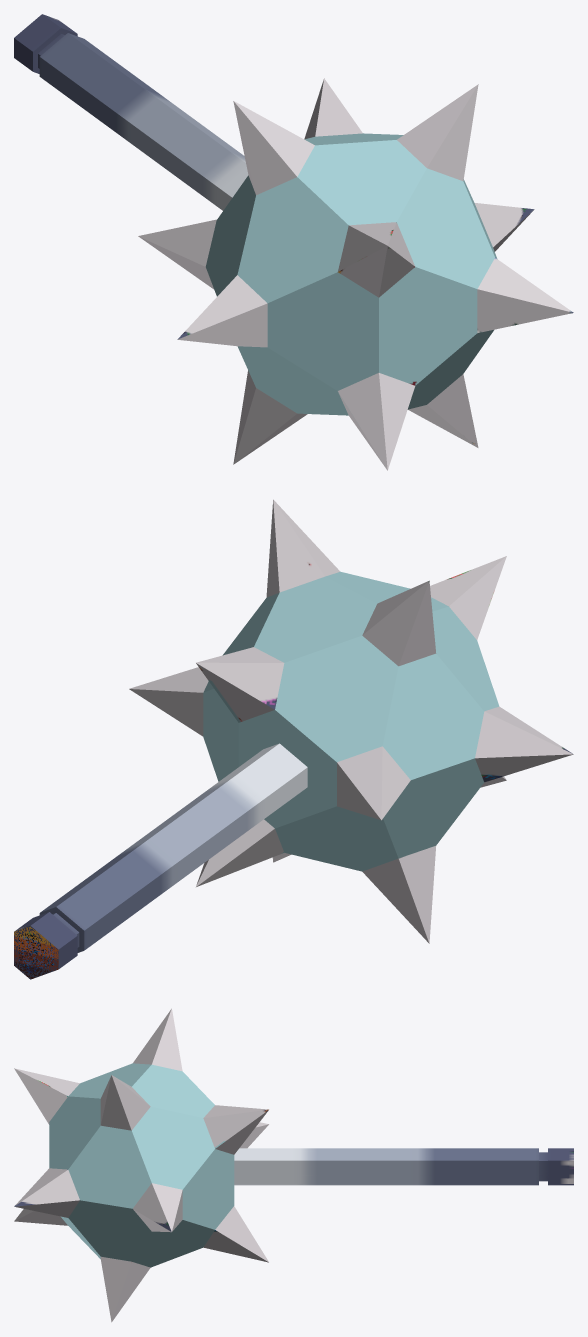
File: MorningStar.fbx
3 renders of one model, top to bottom at view 1: azimuth 30°, elevation 25°; view 2: azimuth 150°, elevation 25°; view 3: azimuth 270°, elevation 25°, orthographic. The views are drawn at different scales.
Parts seen in each view (by area): view 1: Icosphere; view 2: Icosphere; view 3: Icosphere.
Part boxes in pixels (bbox=[...]): Icosphere: bbox=[14, 14, 573, 470]; Icosphere: bbox=[14, 499, 573, 979]; Icosphere: bbox=[14, 1008, 573, 1322].
Size of the model in its own units: 105 by 90.68 by 186.
